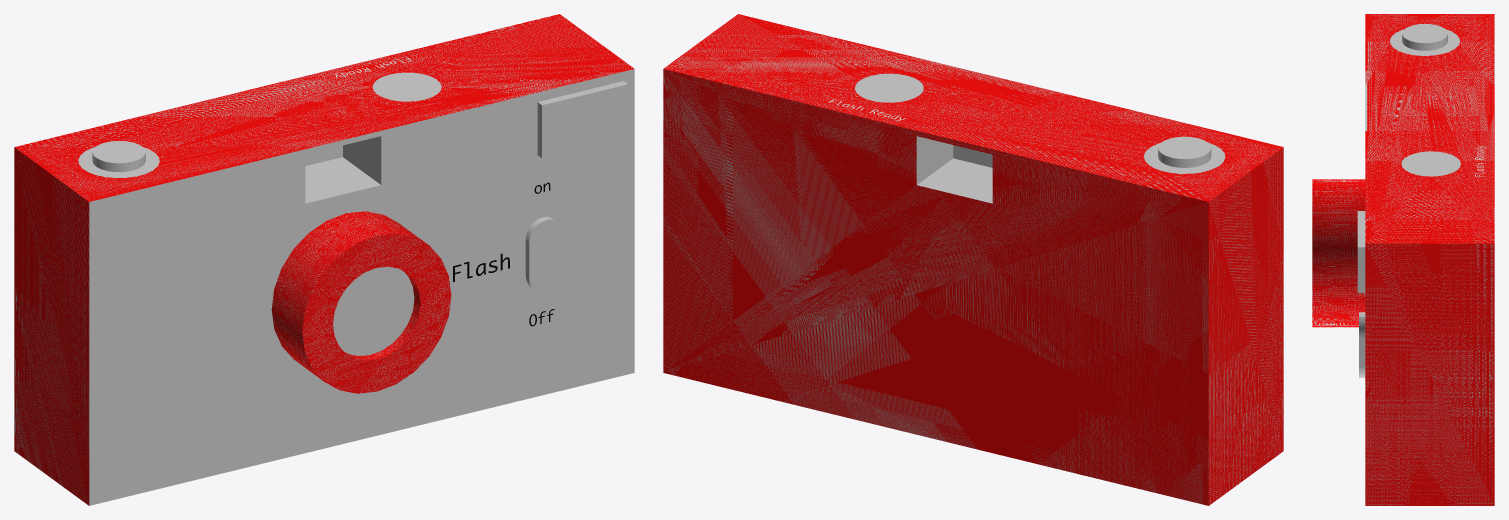
File: model_align.obj
3 views of the same model, side by side, from view 1: azimuth 30°, elevation 25°; view 2: azimuth 150°, elevation 25°; view 3: azimuth 270°, elevation 25° (orthographic). The views are drawn at different scales.
Visible parts, largest first — view 1: mesh21_mesh21-geometry, mesh22_mesh22-geometry; view 2: mesh21_mesh21-geometry; view 3: mesh21_mesh21-geometry, mesh22_mesh22-geometry.
Part boxes in pixels (x1,y1,x2,y2): mesh21_mesh21-geometry: [14, 14, 634, 505]; mesh22_mesh22-geometry: [271, 211, 451, 393]; mesh21_mesh21-geometry: [663, 14, 1283, 505]; mesh21_mesh21-geometry: [1357, 14, 1494, 505]; mesh22_mesh22-geometry: [1312, 179, 1365, 327].
Size of the model in its own units: 0.1425 by 0.0781 by 0.0478.
